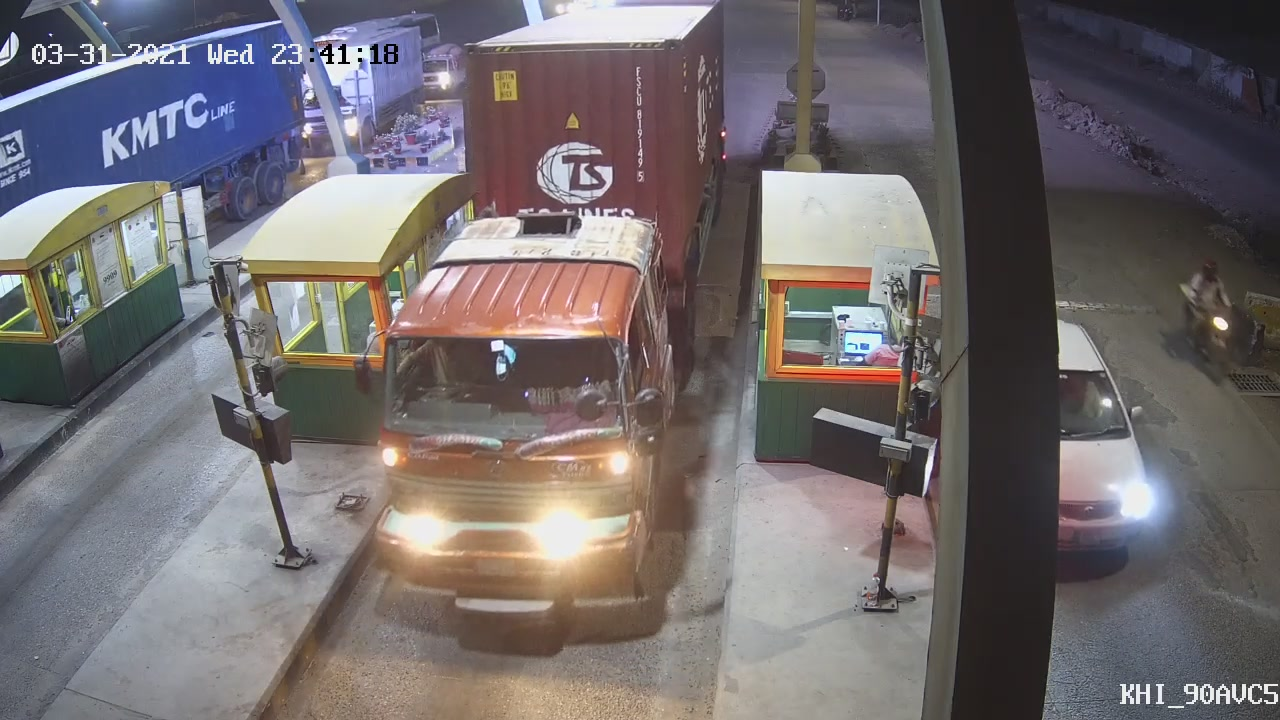F6: (350, 1, 740, 635)
